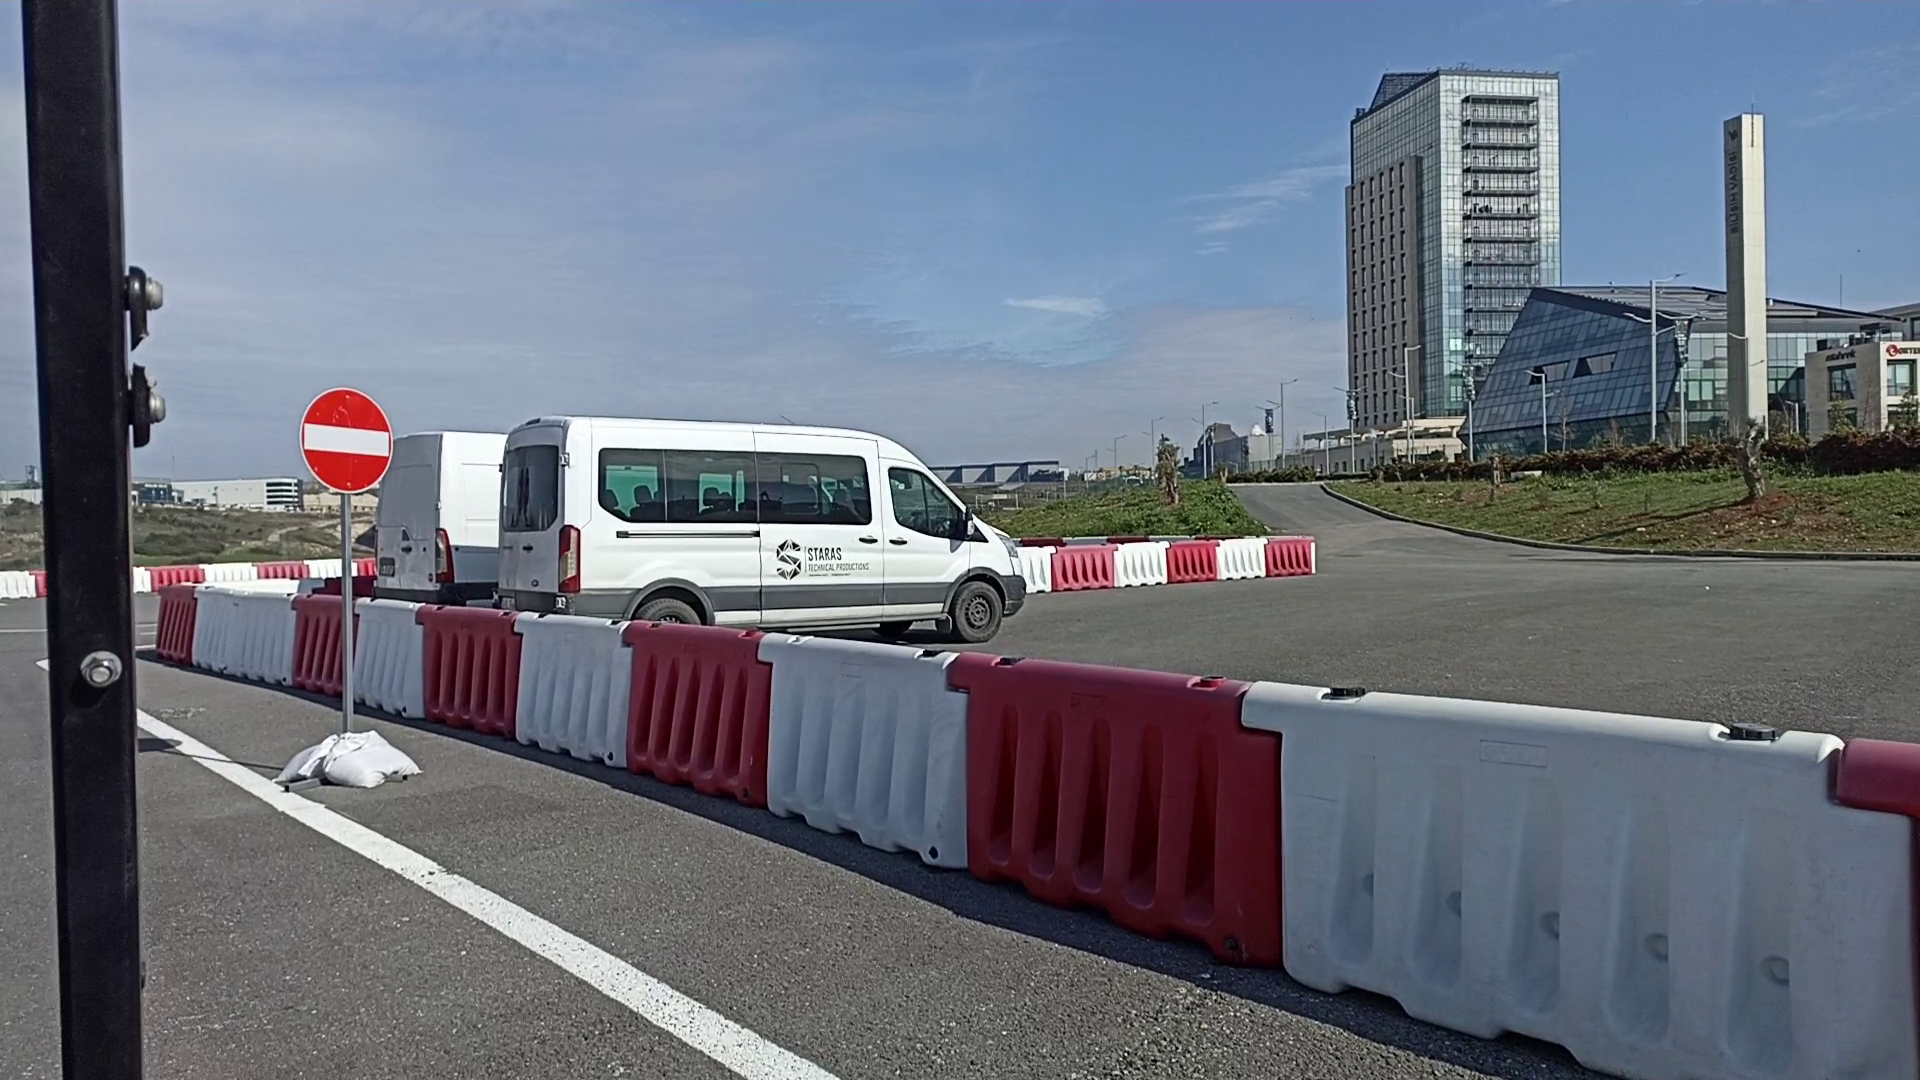noentryway: (298, 384, 394, 497)
